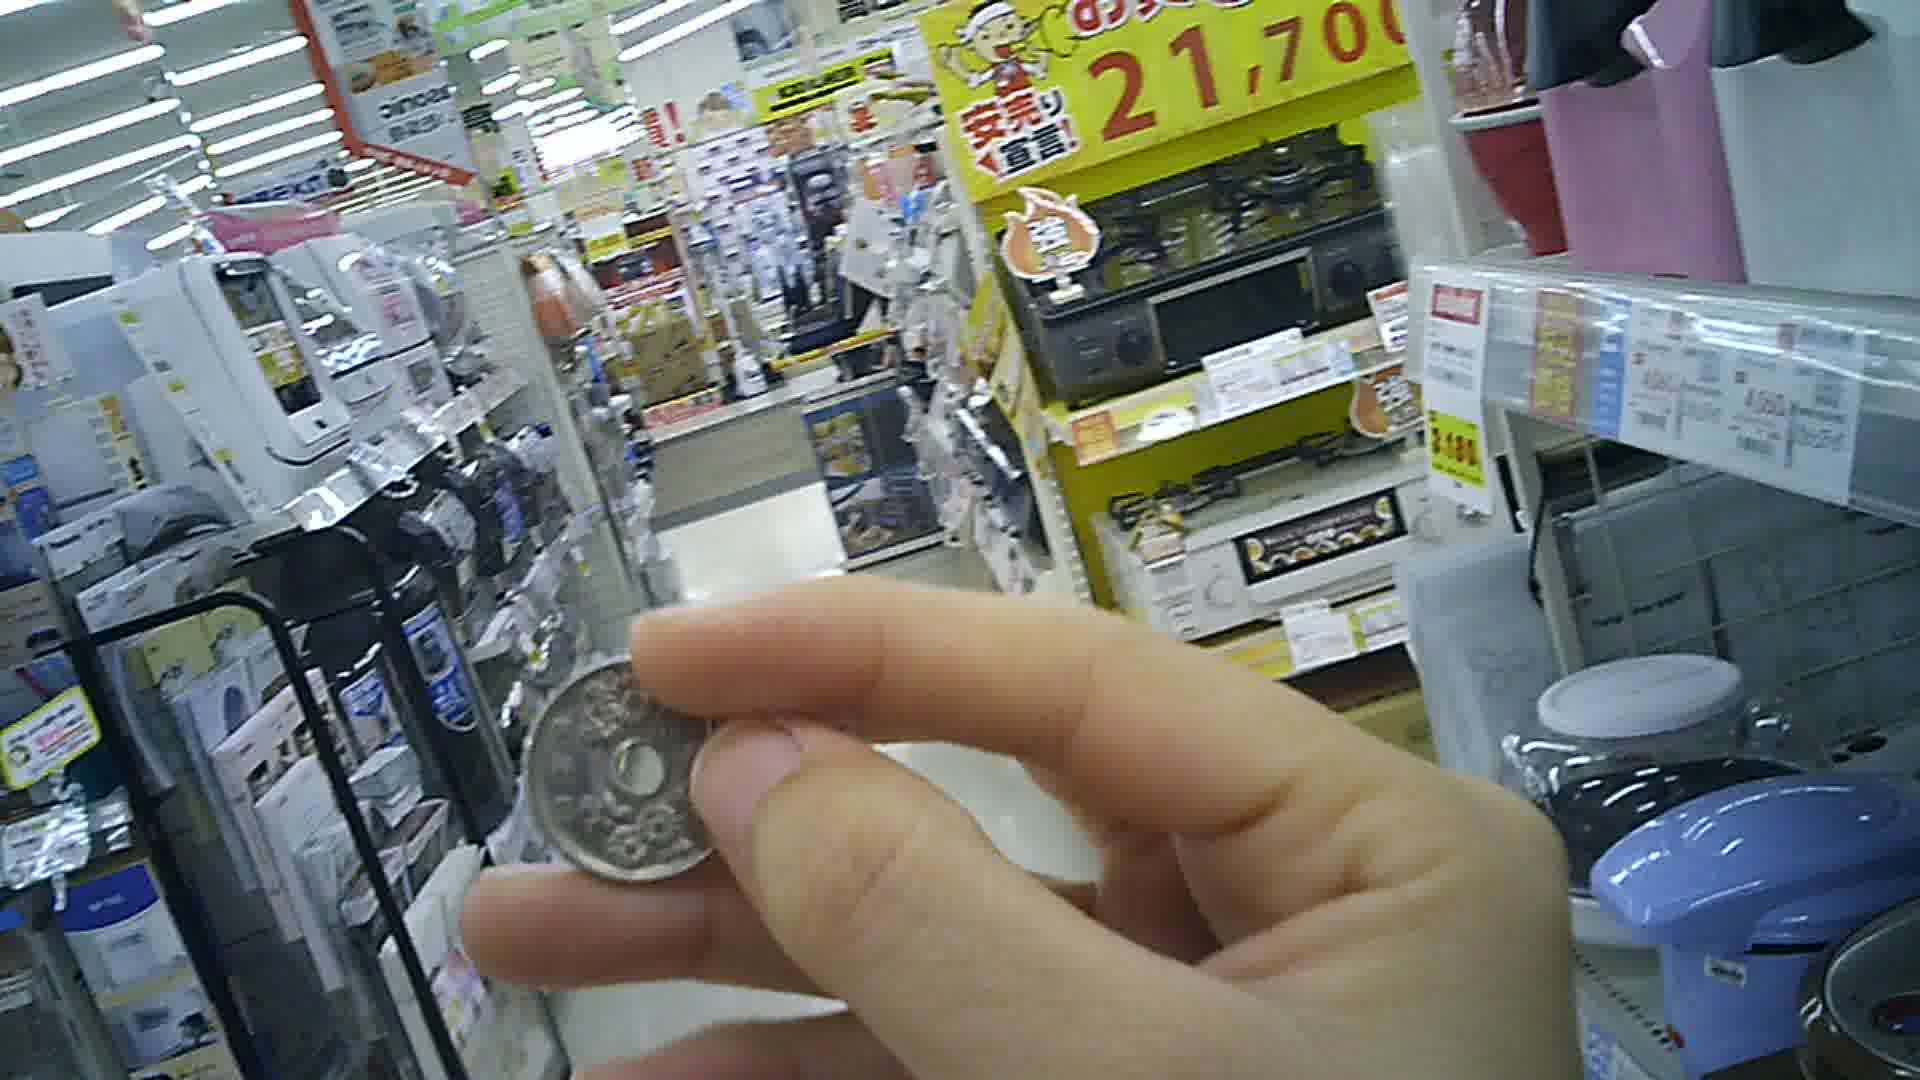50 Yen: (516, 658, 767, 887)
